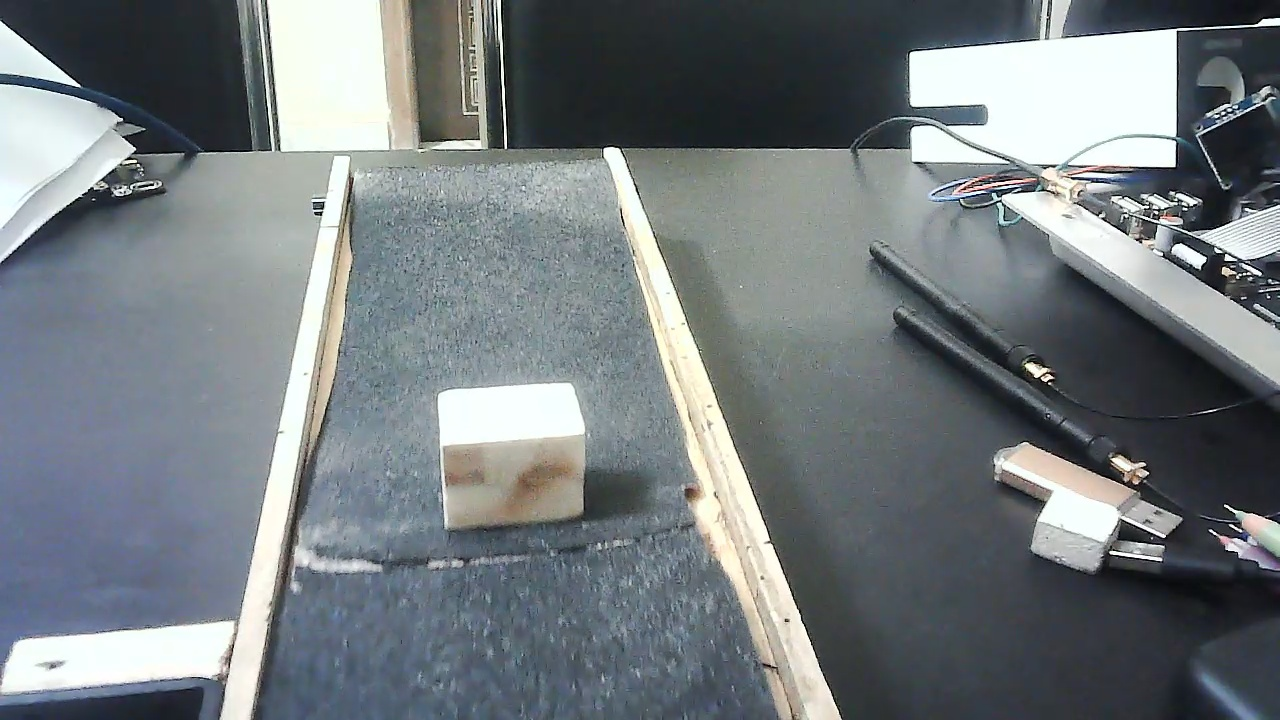Medium: (437, 380, 585, 528)
